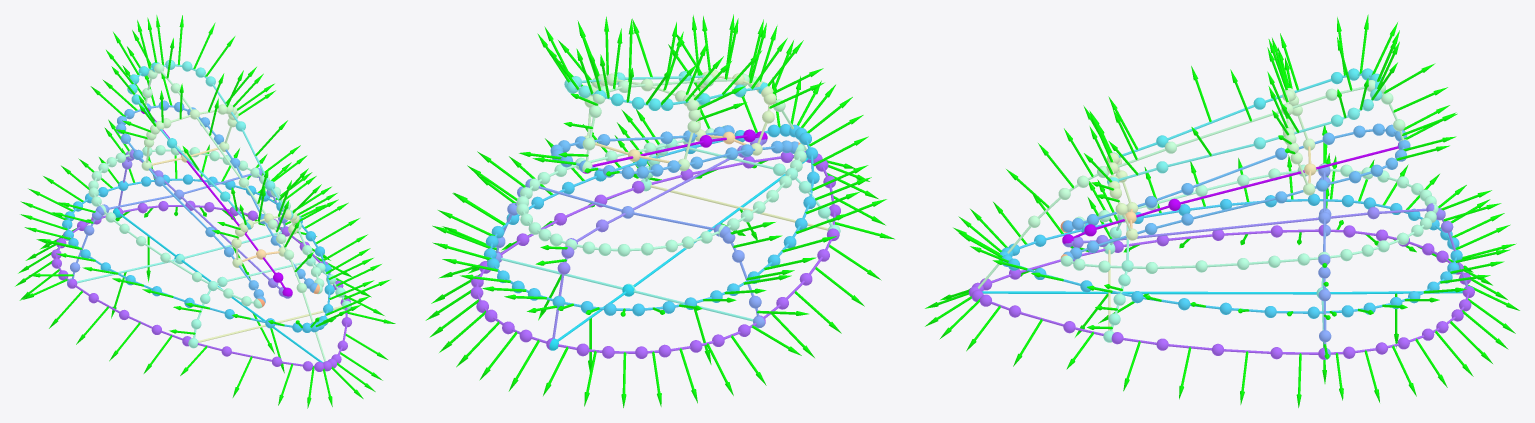
The model's file is t2f_iron.gltf.
3 views of the same model, side by side, from view 1: azimuth 30°, elevation 25°; view 2: azimuth 150°, elevation 25°; view 3: azimuth 270°, elevation 25° (orthographic). The views are drawn at different scales.
Bounding box in the file's own units: 0.6619 × 0.5604 × 0.9663.
